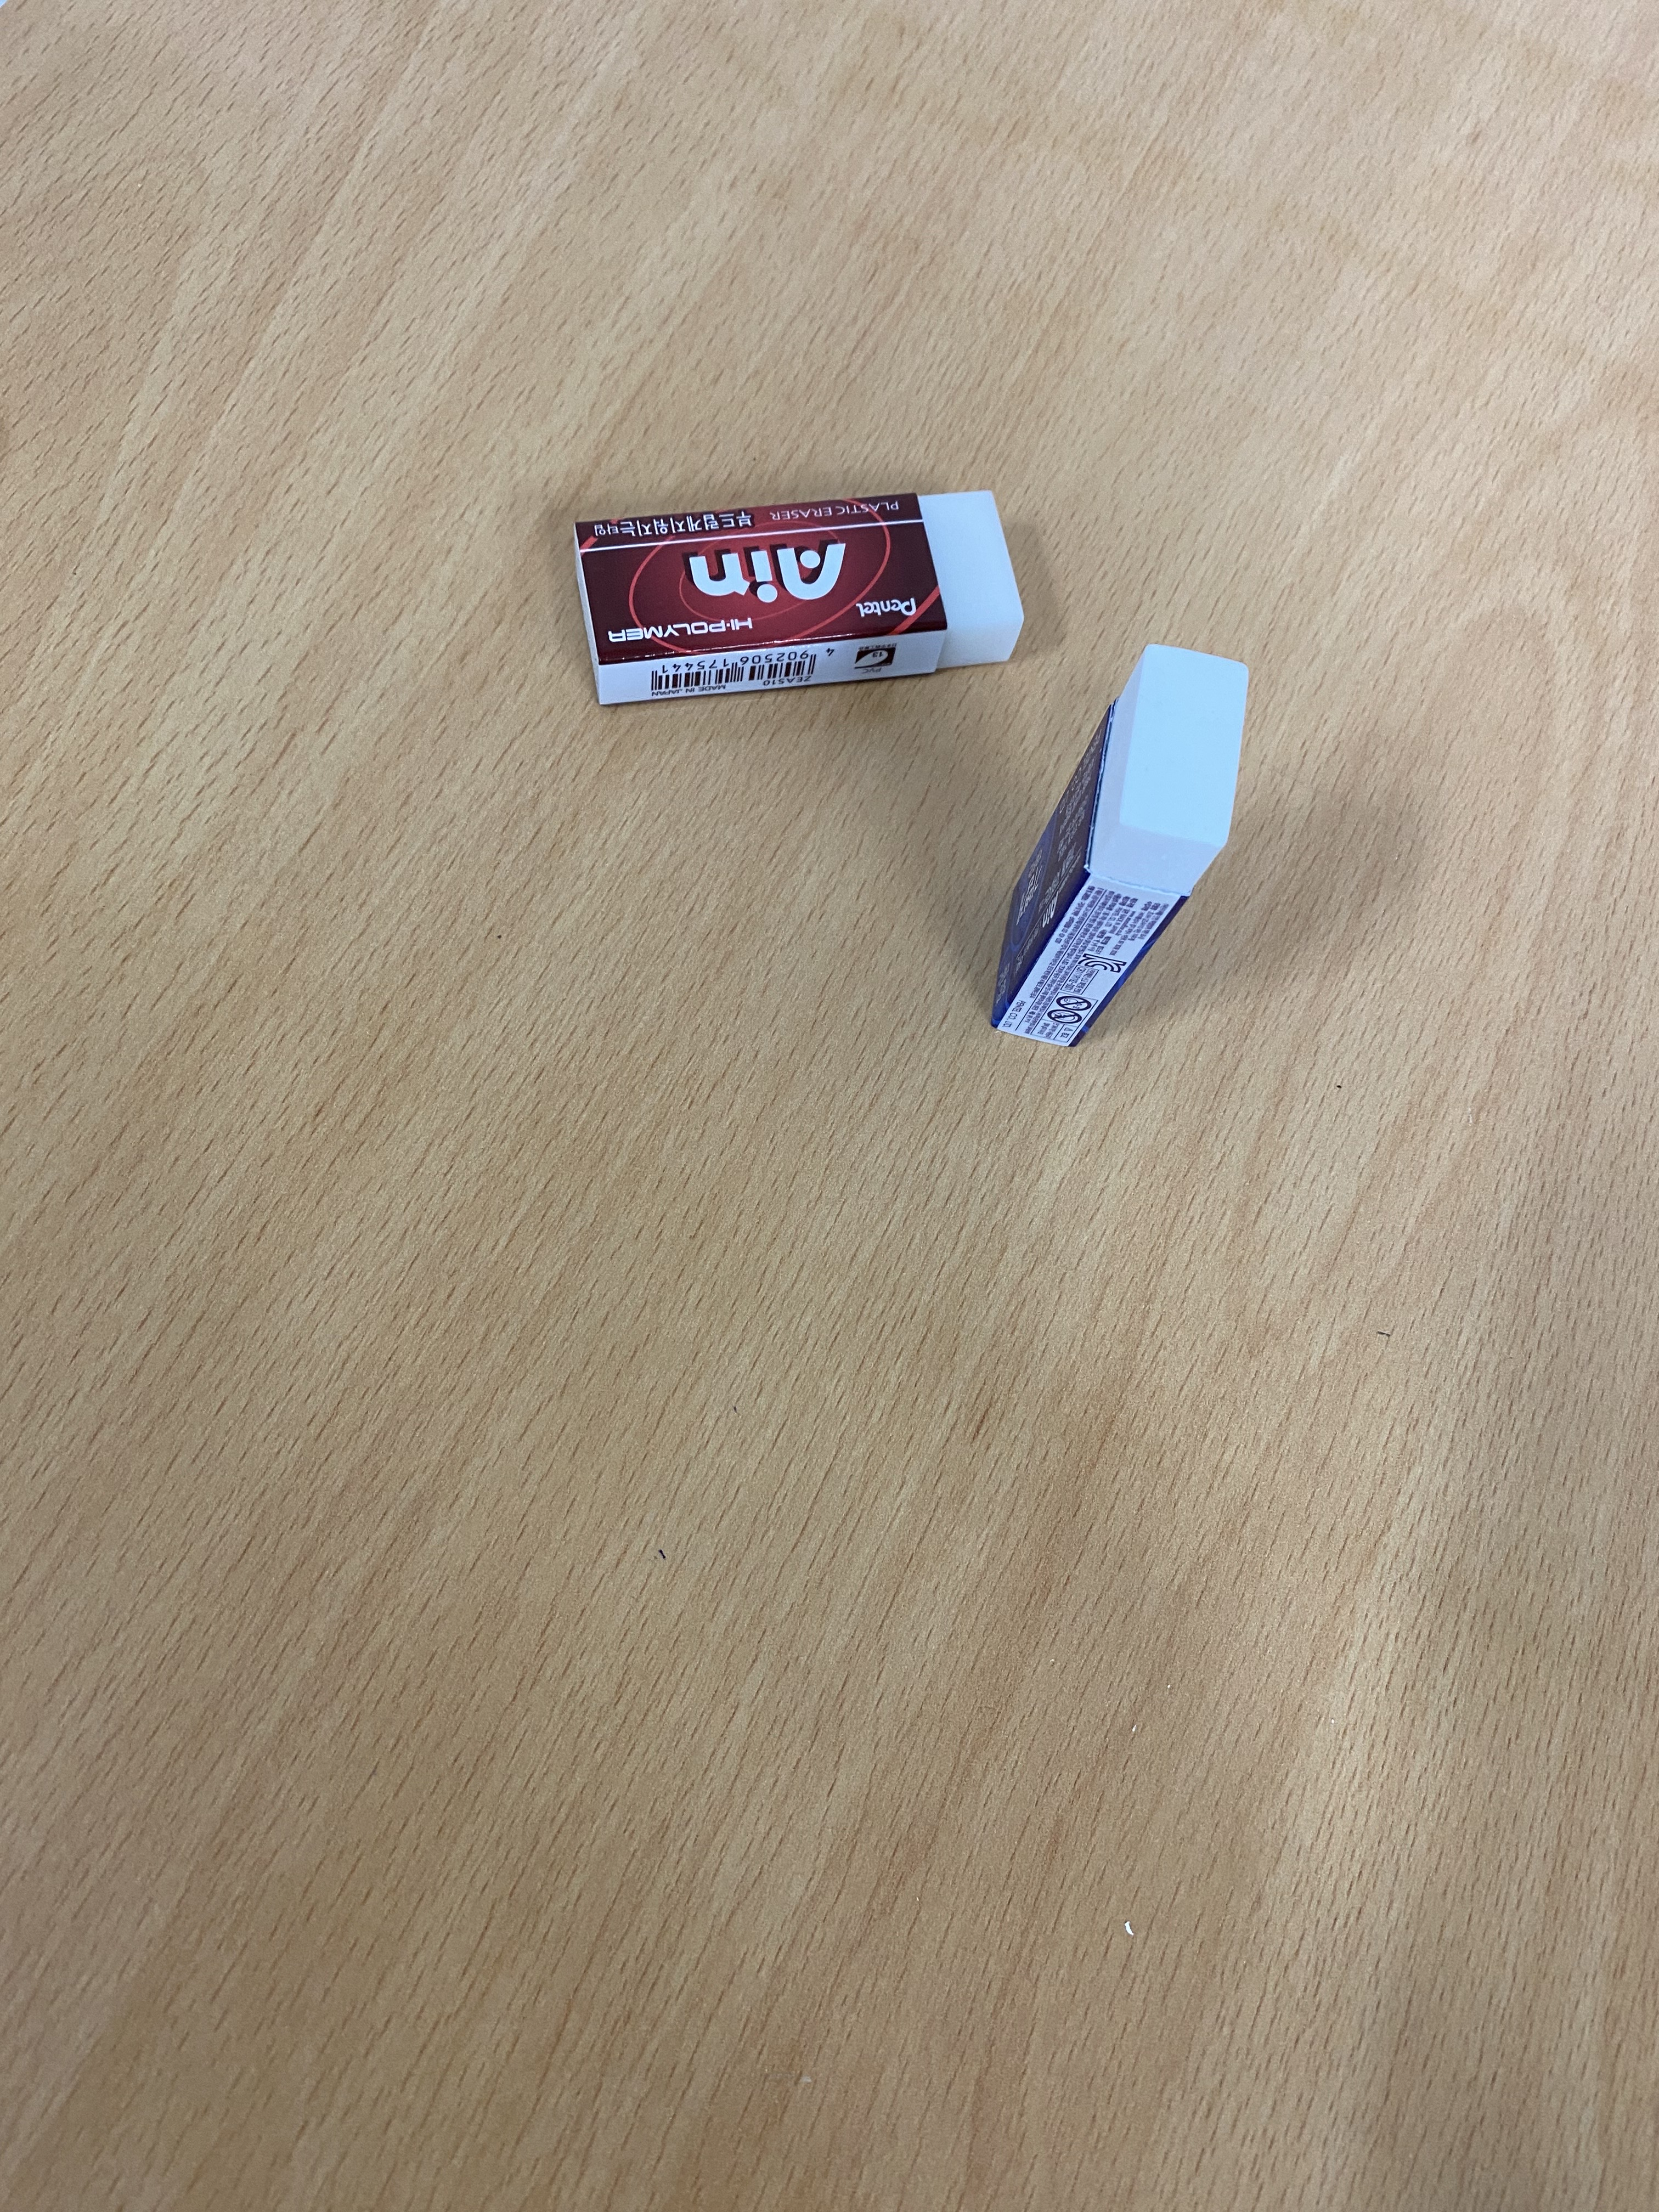blue: (976, 643, 1293, 1054)
red: (556, 465, 1042, 714)
